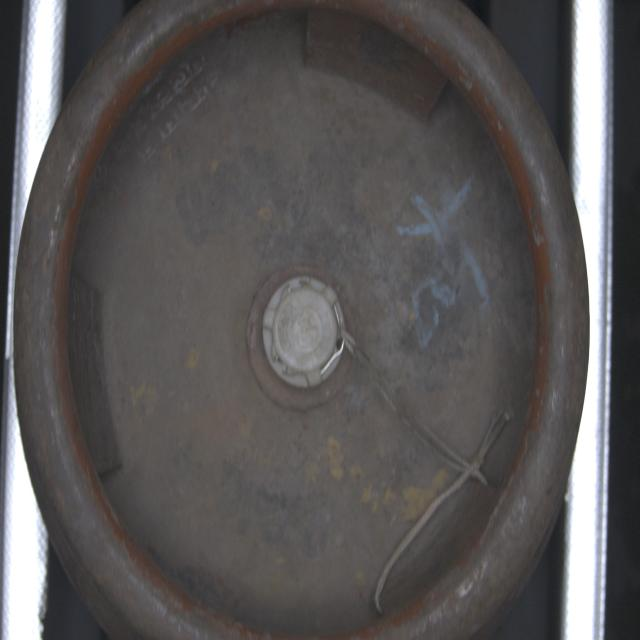Cap: (263, 272, 351, 393)
